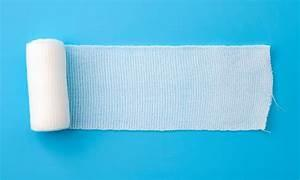cotton: (39, 40, 271, 129), (26, 39, 69, 130)
